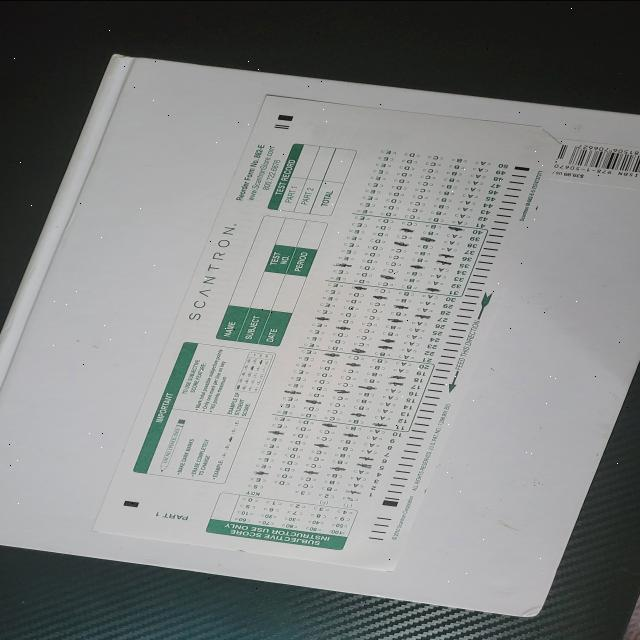scantron: (90, 94, 564, 571)
